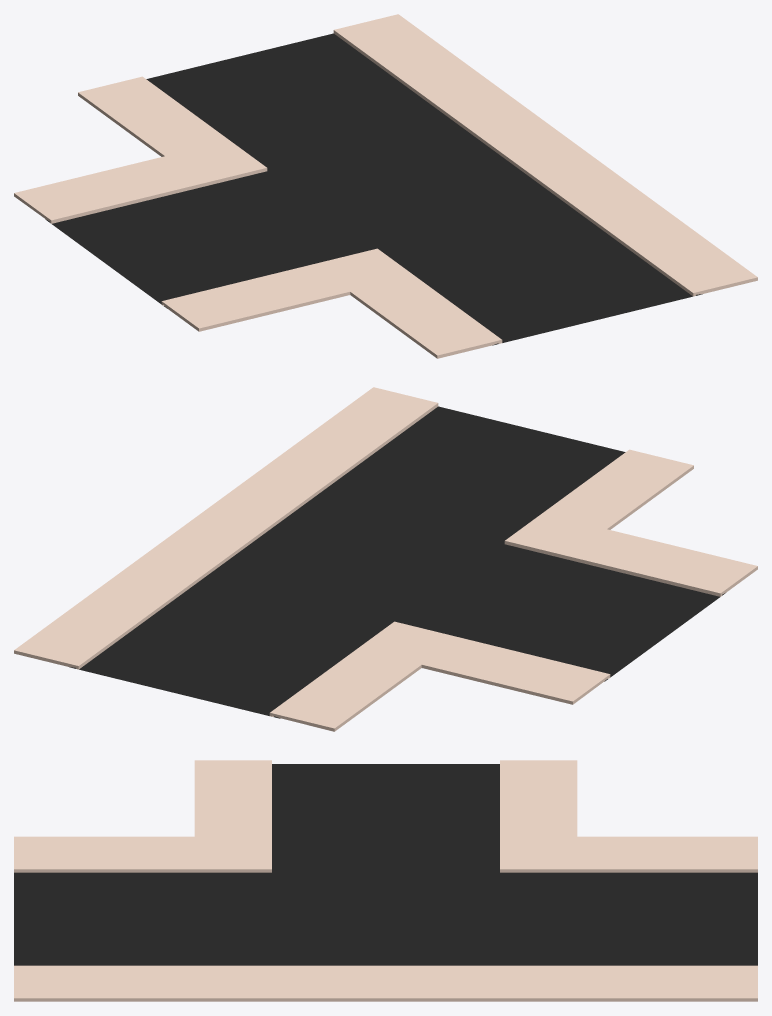
File: 3-way Road.fbx
3 views of the same model, one above another, from view 1: azimuth 30°, elevation 25°; view 2: azimuth 150°, elevation 25°; view 3: azimuth 270°, elevation 25° (orthographic). The views are drawn at different scales.
Visible parts, largest first — view 1: 3-way T road, 3-way T road.001; view 2: 3-way T road, 3-way T road.001; view 3: 3-way T road, 3-way T road.001.
Boxes of the visible parts, <box> form: 3-way T road: <box>46,33,702,345</box>; 3-way T road.001: <box>14,14,757,358</box>; 3-way T road: <box>69,406,725,718</box>; 3-way T road.001: <box>14,387,757,731</box>; 3-way T road: <box>14,764,757,965</box>; 3-way T road.001: <box>14,760,757,1001</box>.
Size of the model in its own units: 292 by 2.07 by 385.
